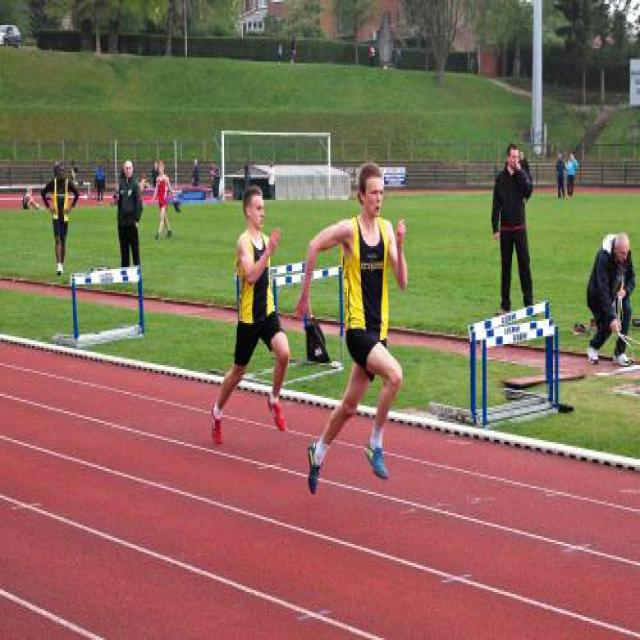running: (299, 157, 412, 496), (208, 184, 292, 448)
